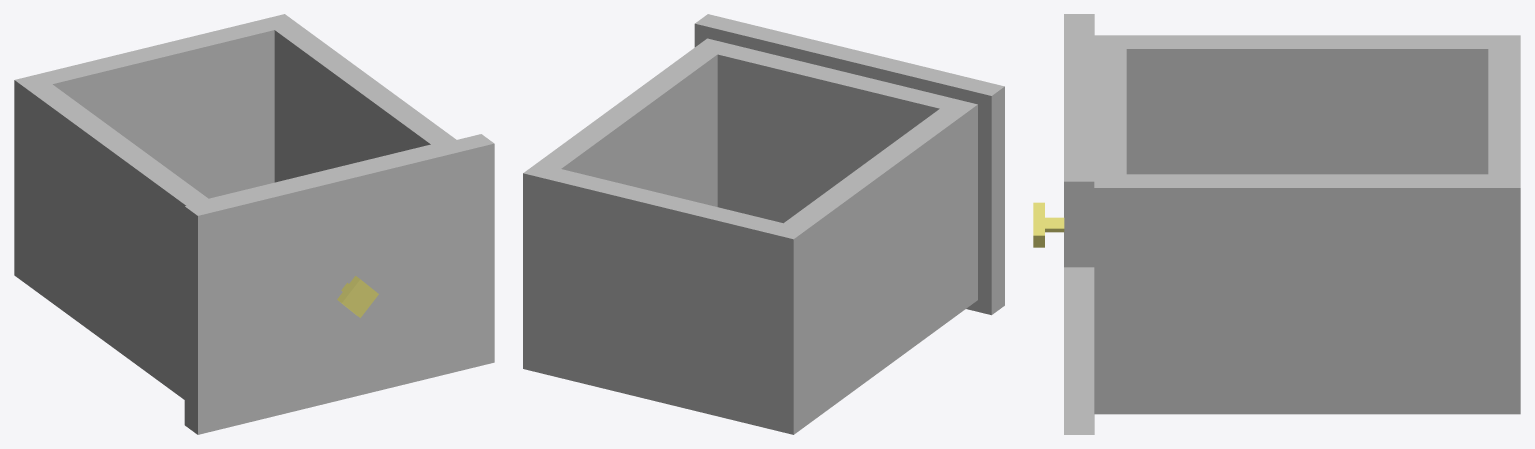
Rendered from Itr_Wardrobe2_Drawer_Small_06.FBX.
The picture shows the model from 3 angles, left to right: view 1: azimuth 30°, elevation 25°; view 2: azimuth 150°, elevation 25°; view 3: azimuth 270°, elevation 25°; orthographic projection. The views are drawn at different scales.
Parts seen in each view (by area): view 1: Itr_Wardrobe2_Drawer_Small_06; view 2: Itr_Wardrobe2_Drawer_Small_06; view 3: Itr_Wardrobe2_Drawer_Small_06.
Boxes of the visible parts, x1,y1,x2,y2 form: Itr_Wardrobe2_Drawer_Small_06: (14, 14, 494, 434); Itr_Wardrobe2_Drawer_Small_06: (523, 14, 1004, 434); Itr_Wardrobe2_Drawer_Small_06: (1033, 14, 1520, 434).
Size of the model in its own units: 18.79 by 13.26 by 23.09.
